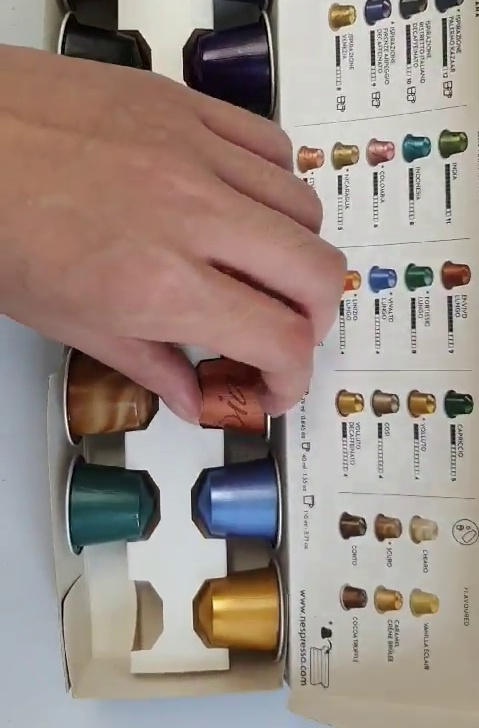capsule_6: (192, 346, 282, 443)
